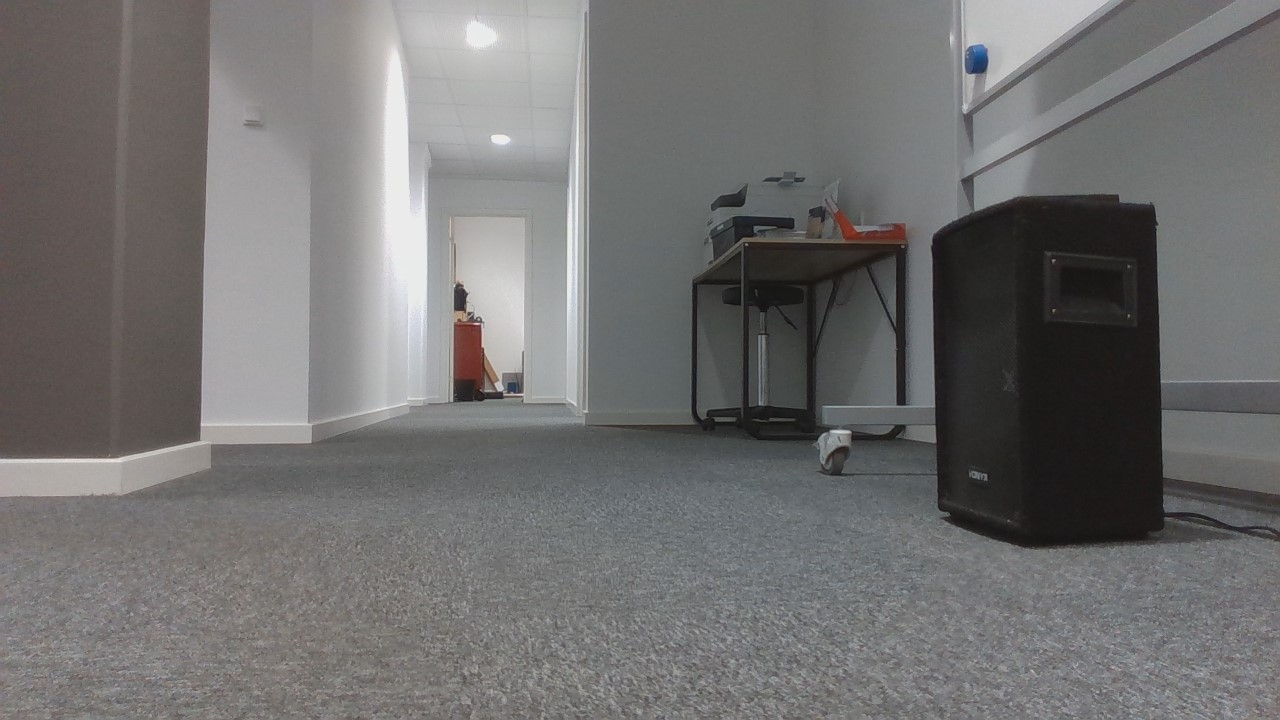alfa: (962, 42, 989, 79)
